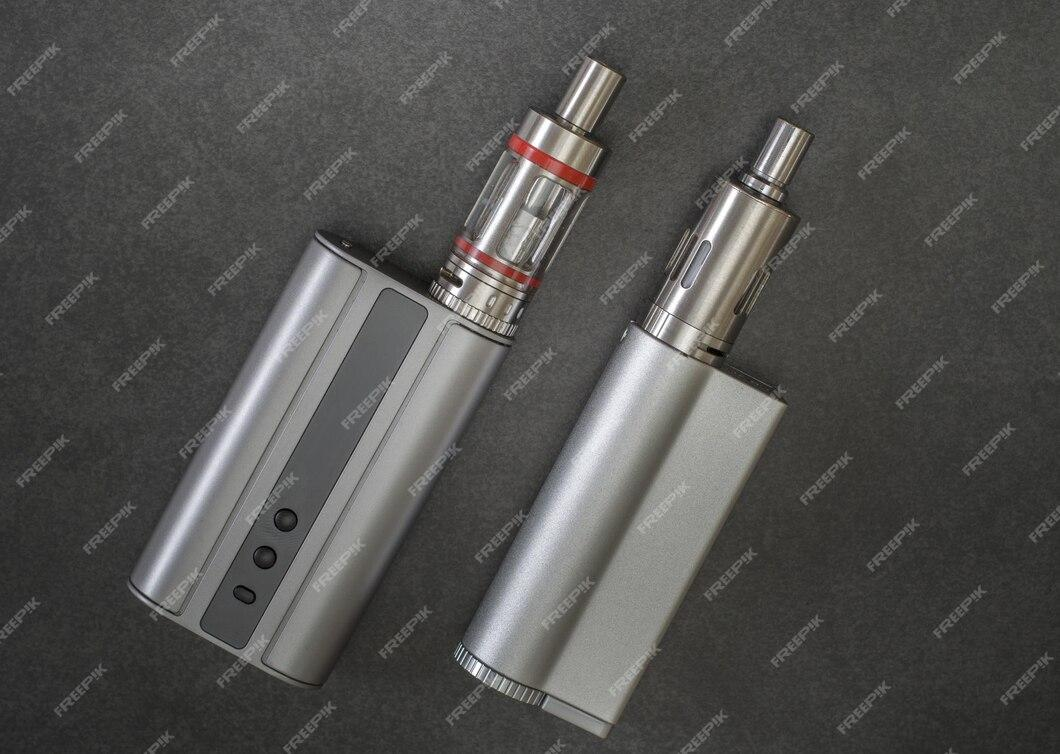Vape: (130, 58, 624, 684), (456, 118, 813, 735)
